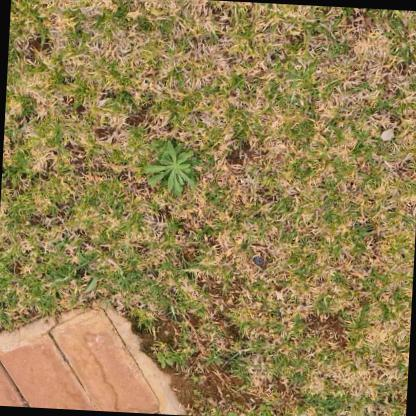Weeds: (144, 138, 199, 194), (155, 350, 173, 369)
